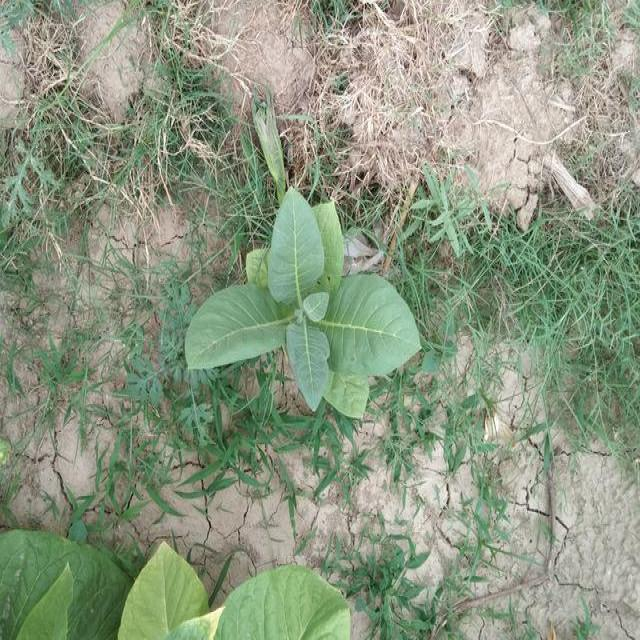crop: (180, 188, 428, 424)
